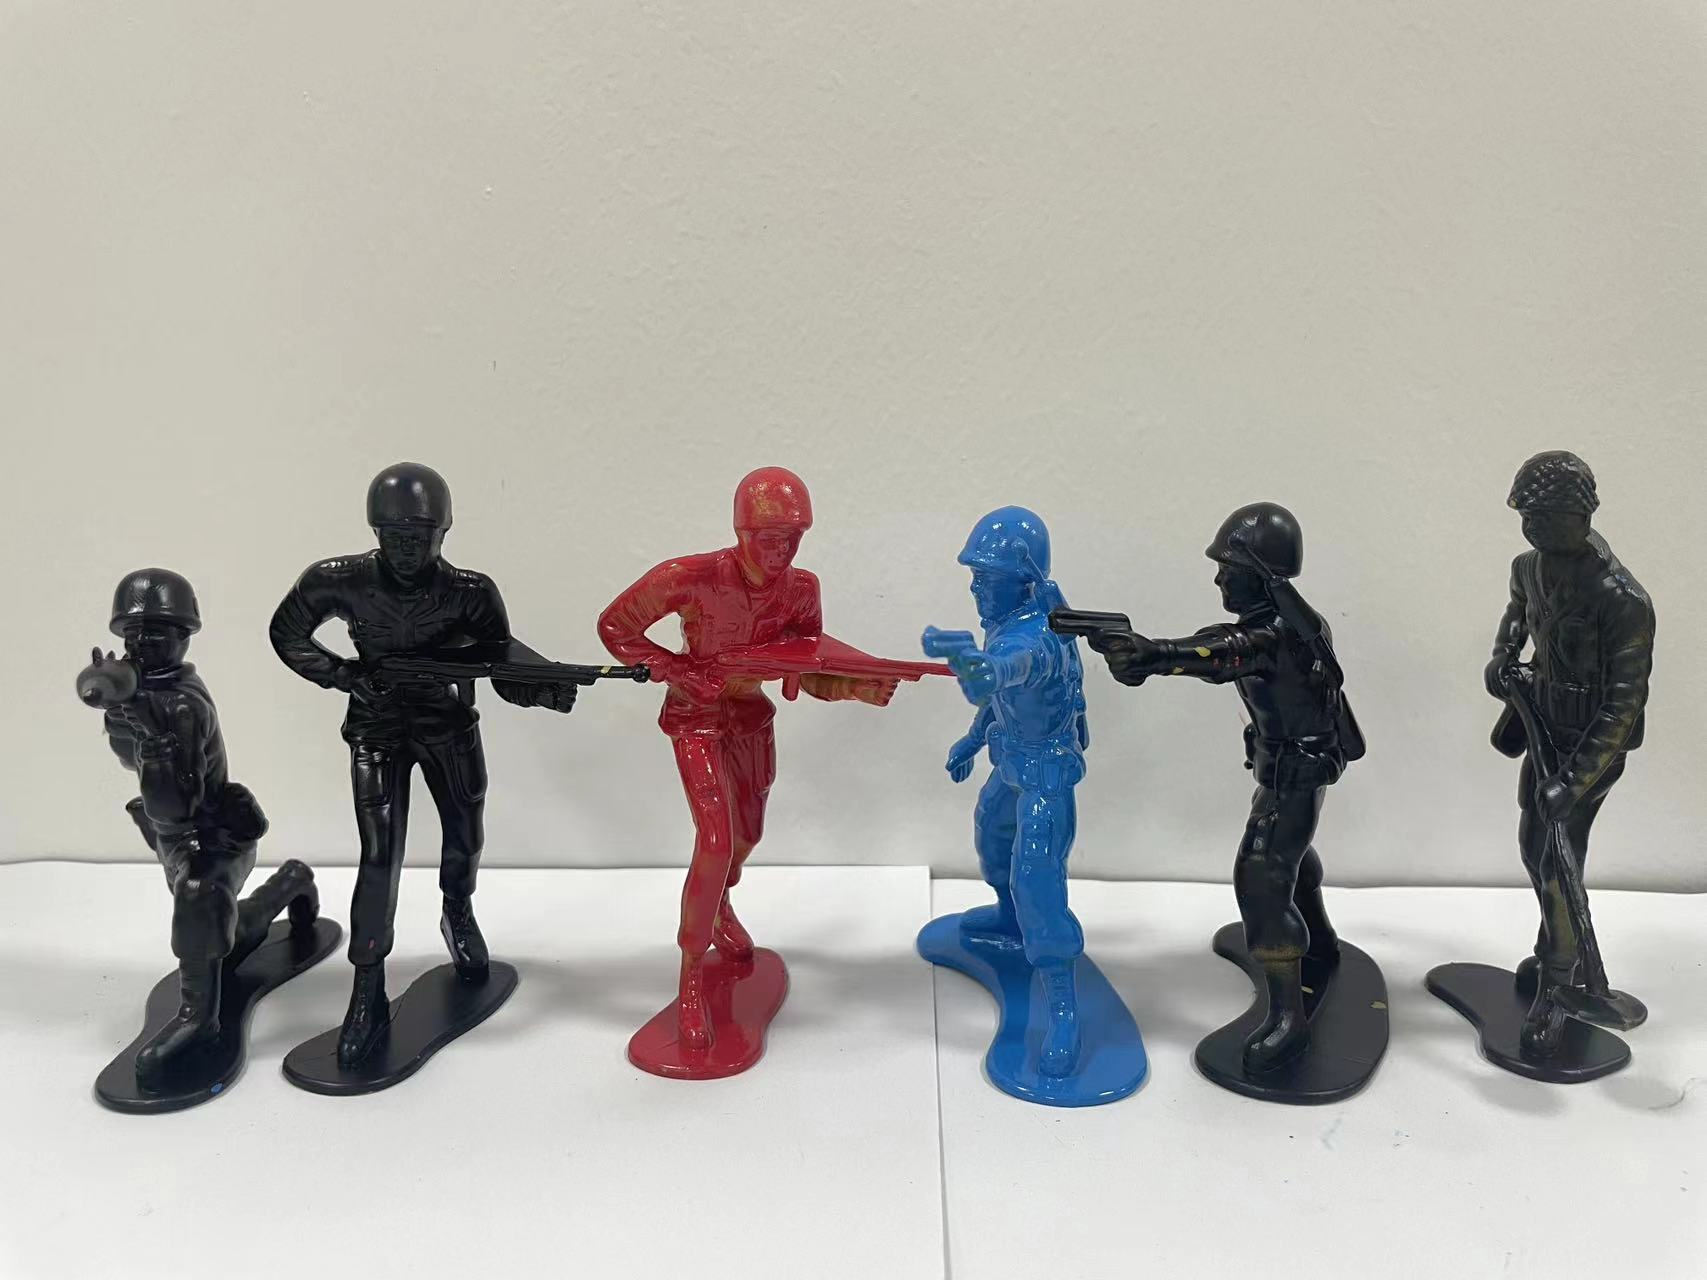black: (257, 467, 587, 1120), (1398, 421, 1692, 1121), (1097, 476, 1421, 1103), (59, 549, 259, 1154)
blue: (919, 499, 1122, 1131)
red: (602, 425, 923, 1109)
